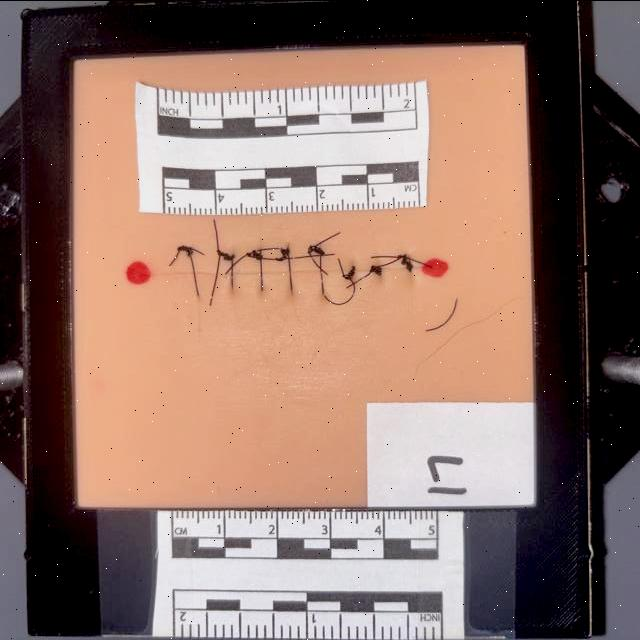incision_line: (132, 264, 436, 276)
scale_marker: (368, 180, 418, 208)
suture_d: (378, 263, 408, 275), (288, 264, 322, 274), (322, 265, 354, 275), (353, 264, 380, 274), (260, 266, 290, 274), (230, 265, 259, 273), (194, 264, 232, 270)
suture_l: (319, 266, 325, 294), (344, 270, 354, 286), (258, 270, 266, 290), (288, 270, 294, 294), (229, 271, 237, 289), (194, 271, 200, 295), (406, 266, 414, 278), (375, 268, 381, 278)
suture_r: (185, 244, 197, 272), (284, 251, 294, 273), (258, 248, 264, 272), (318, 251, 324, 269), (231, 250, 235, 272), (408, 256, 414, 268), (351, 264, 357, 272), (374, 265, 382, 270)
